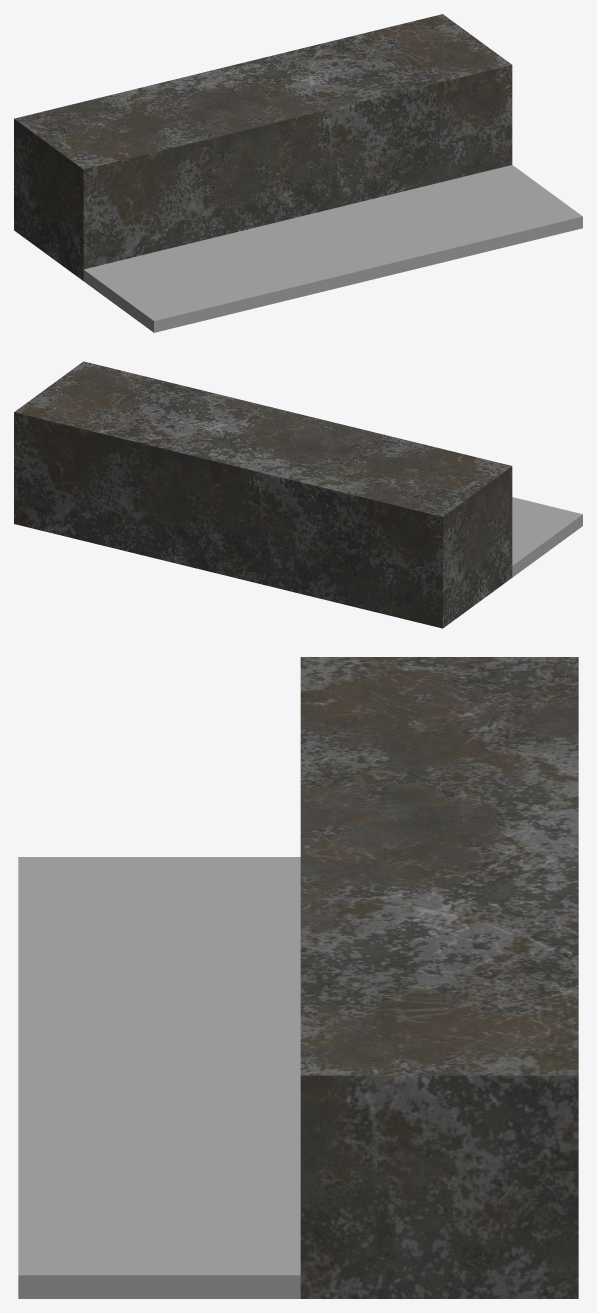
File: SewerRoom3.fbx
The picture shows the model from 3 angles, top to bottom: view 1: azimuth 30°, elevation 25°; view 2: azimuth 150°, elevation 25°; view 3: azimuth 270°, elevation 25°; orthographic projection. The views are drawn at different scales.
Visible parts, largest first — view 1: SewerRoom3; view 2: SewerRoom3; view 3: SewerRoom3.
Part boxes in pixels (x1,y1,x2,y2): SewerRoom3: [14, 14, 582, 332]; SewerRoom3: [14, 361, 582, 628]; SewerRoom3: [18, 657, 578, 1298].
Size of the model in its own units: 8 by 1.99 by 4.53.
Materials: 3 (1 with a texture image).
